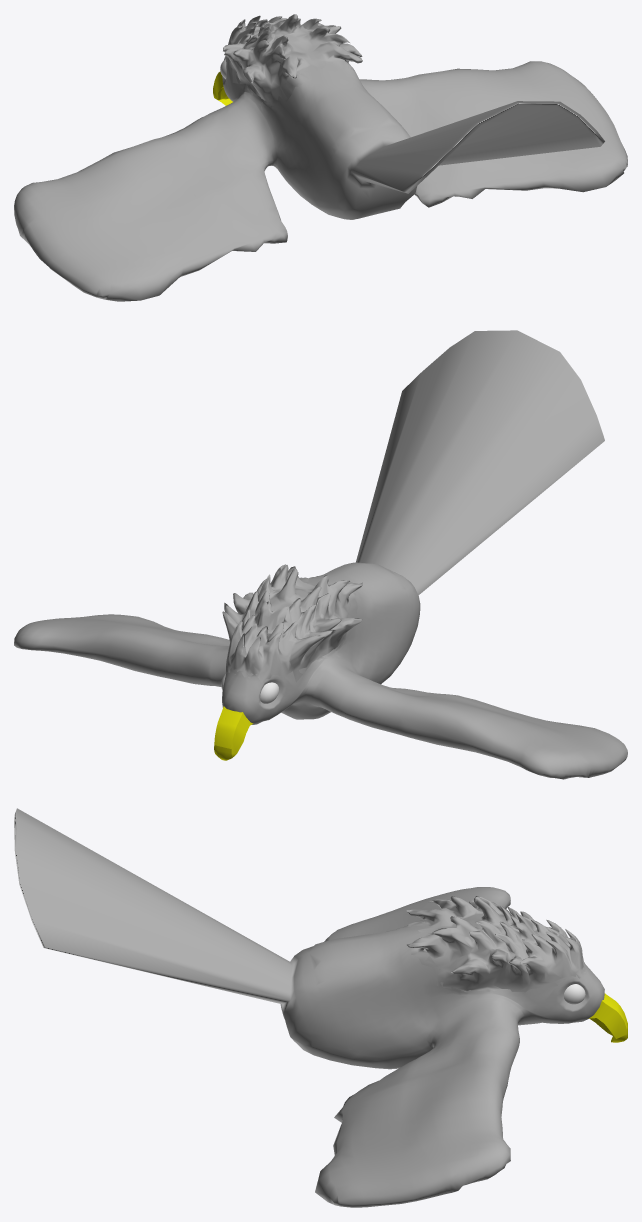
The model's file is FireBird.fbx.
The picture shows the model from 3 angles, top to bottom: view 1: azimuth 30°, elevation 25°; view 2: azimuth 150°, elevation 25°; view 3: azimuth 270°, elevation 25°; orthographic projection. The views are drawn at different scales.
Parts seen in each view (by area): view 1: pSphere4; view 2: pSphere4; view 3: pSphere4.
Part boxes in pixels (x1,y1,x2,y2): pSphere4: (14,14,627,301); pSphere4: (14,330,627,779); pSphere4: (14,808,627,1207).
Bounding box in the file's own units: 1908 × 797 × 1716.
